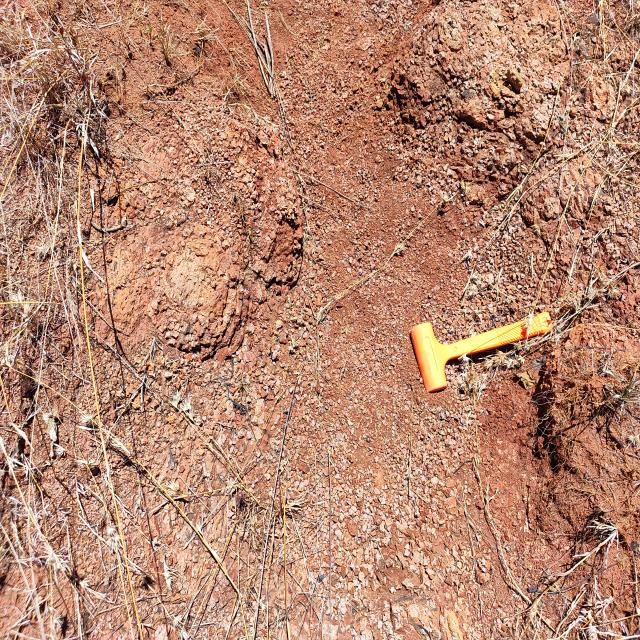Orange_hammer: (409, 310, 553, 394)
